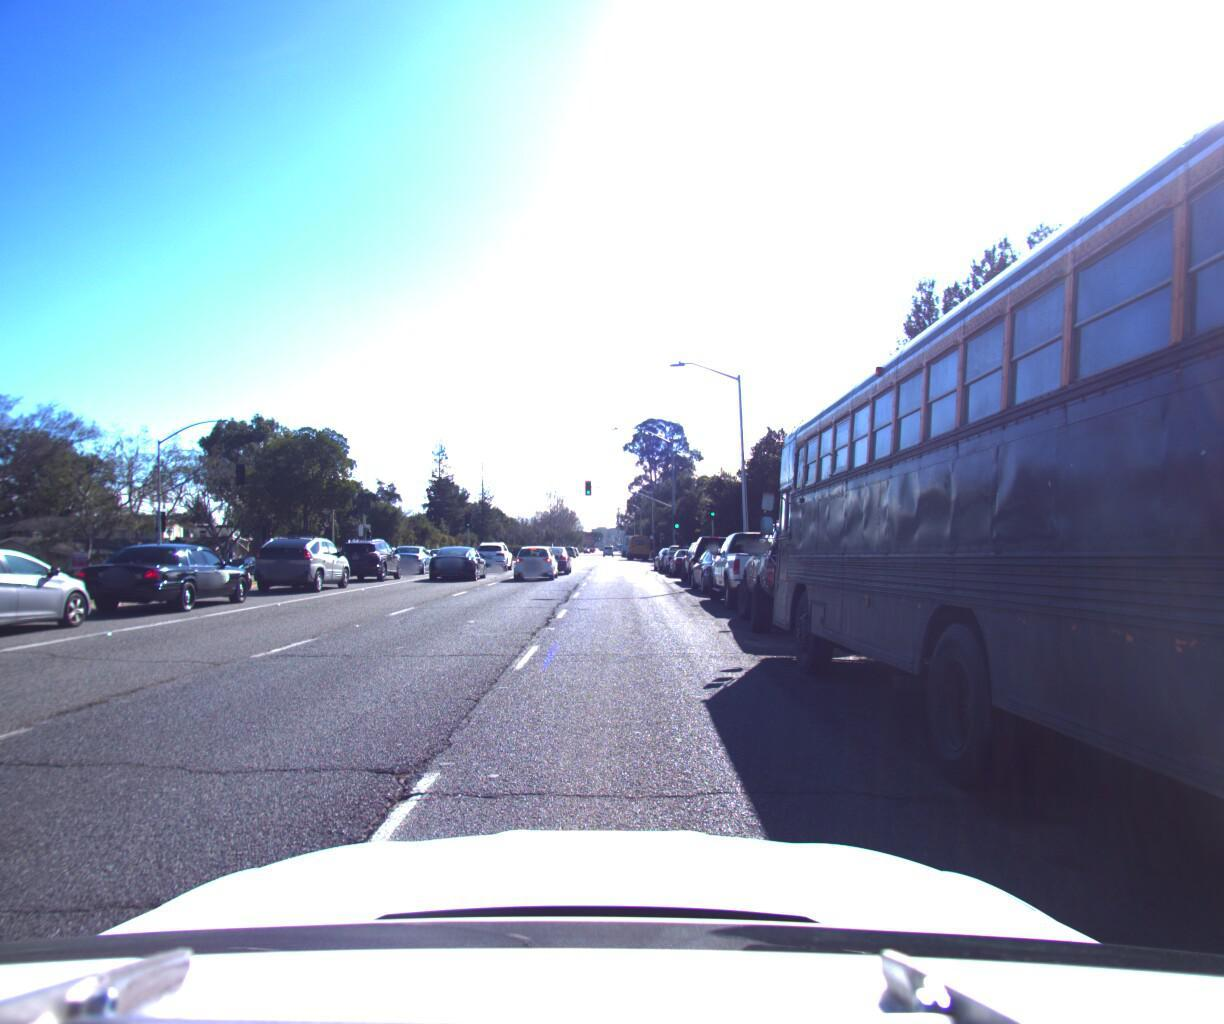bus: (757, 0, 1224, 1024)
car: (735, 505, 882, 638), (66, 534, 265, 612), (0, 537, 112, 652), (706, 518, 827, 608), (242, 525, 360, 592), (686, 537, 767, 590), (332, 532, 409, 577), (679, 525, 742, 579), (426, 534, 489, 575), (512, 532, 561, 570), (468, 528, 514, 562), (389, 536, 438, 568), (532, 535, 575, 566), (662, 534, 702, 567)
